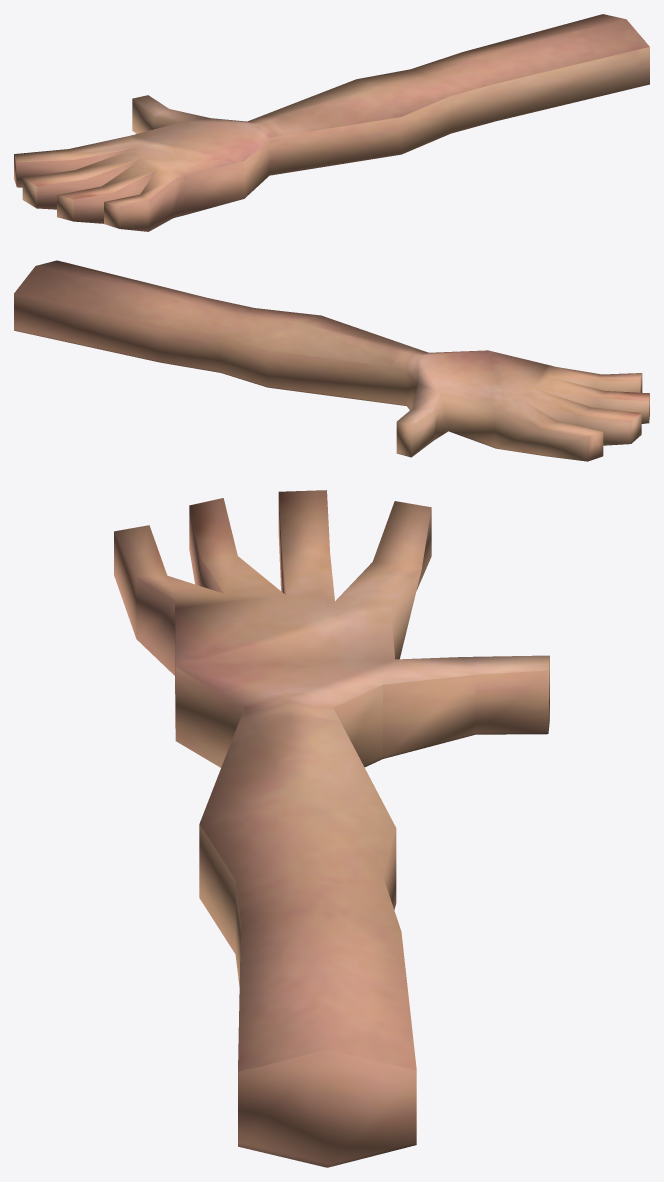
File: hand.obj
The picture shows the model from 3 angles, top to bottom: view 1: azimuth 30°, elevation 25°; view 2: azimuth 150°, elevation 25°; view 3: azimuth 270°, elevation 25°; orthographic projection. The views are drawn at different scales.
Visible parts, largest first — view 1: HandMat; view 2: HandMat; view 3: HandMat.
Part boxes in pixels (<box>): HandMat: <box>14,14,649,231</box>; HandMat: <box>14,260,649,461</box>; HandMat: <box>114,490,549,1167</box>.
Bounding box in the file's own units: 4.58 × 0.434 × 1.45.
